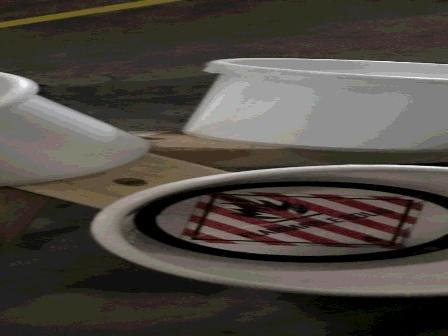flammable-solid: (175, 191, 429, 251)
